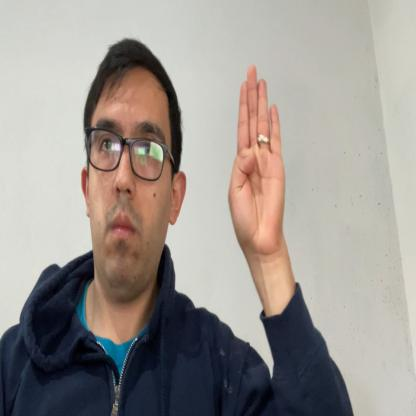B: (227, 63, 287, 260)
